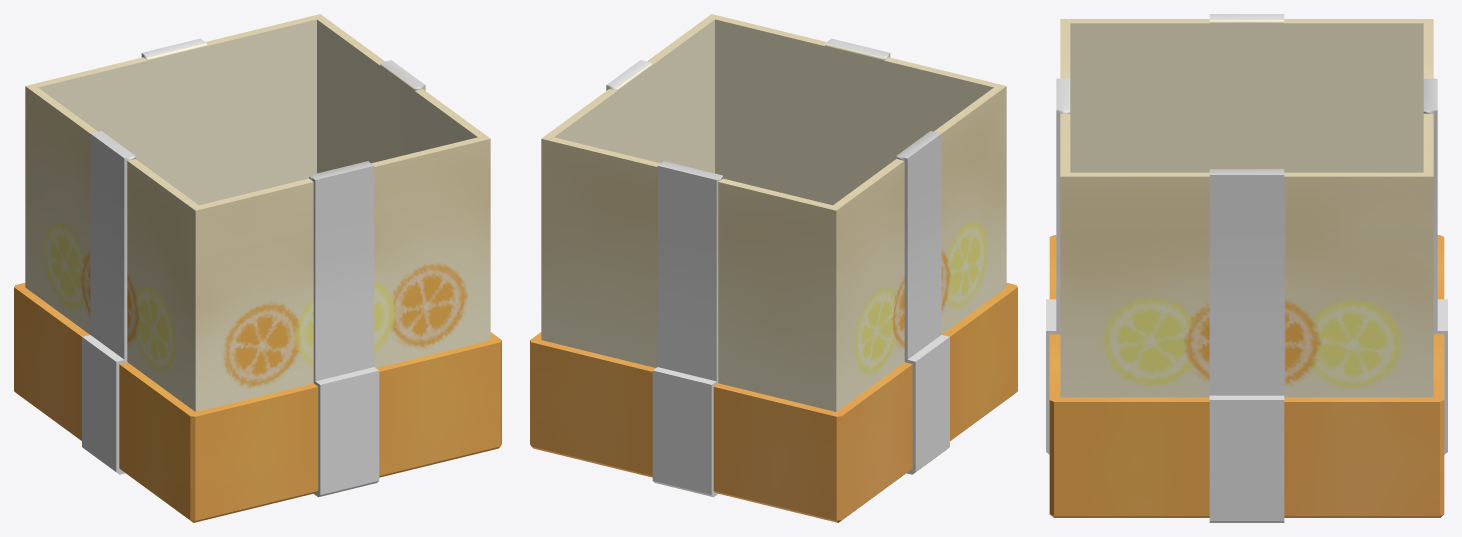
The model's file is itembox_under.fbx.
3 views of the same model, side by side, from view 1: azimuth 30°, elevation 25°; view 2: azimuth 150°, elevation 25°; view 3: azimuth 270°, elevation 25° (orthographic). The views are drawn at different scales.
Visible parts, largest first — view 1: pCube5; view 2: pCube5; view 3: pCube5.
Boxes of the visible parts, <box> form: pCube5: <box>14,14,501,522</box>; pCube5: <box>530,14,1017,522</box>; pCube5: <box>1046,14,1447,522</box>.
Size of the model in its own units: 53.8 by 51 by 53.8.
1 material, 1 textured.
